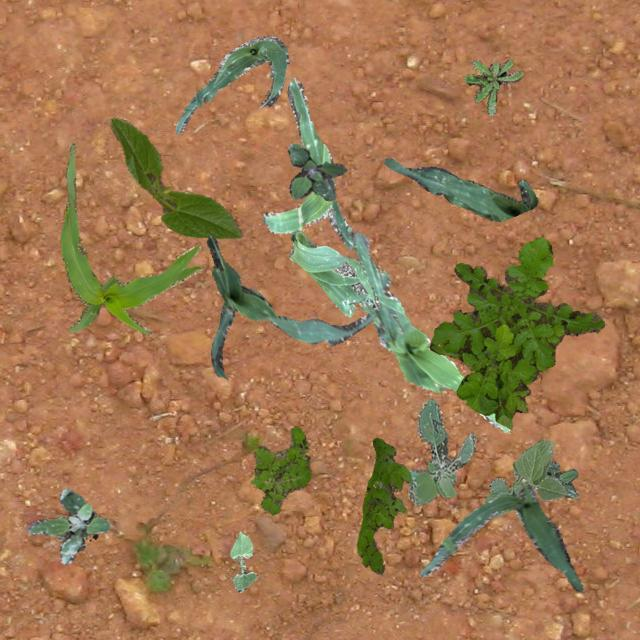crop: (352, 232, 508, 432), (59, 140, 202, 334), (205, 234, 372, 376), (418, 482, 582, 590), (110, 116, 240, 238), (262, 76, 354, 248), (175, 34, 288, 132), (382, 157, 536, 220), (287, 228, 378, 316), (484, 438, 564, 522), (228, 530, 256, 590)
weed: (428, 236, 604, 428), (356, 436, 412, 574), (408, 398, 476, 503), (27, 486, 108, 564), (250, 424, 310, 514), (286, 143, 346, 200), (462, 59, 522, 114), (544, 460, 576, 498)
